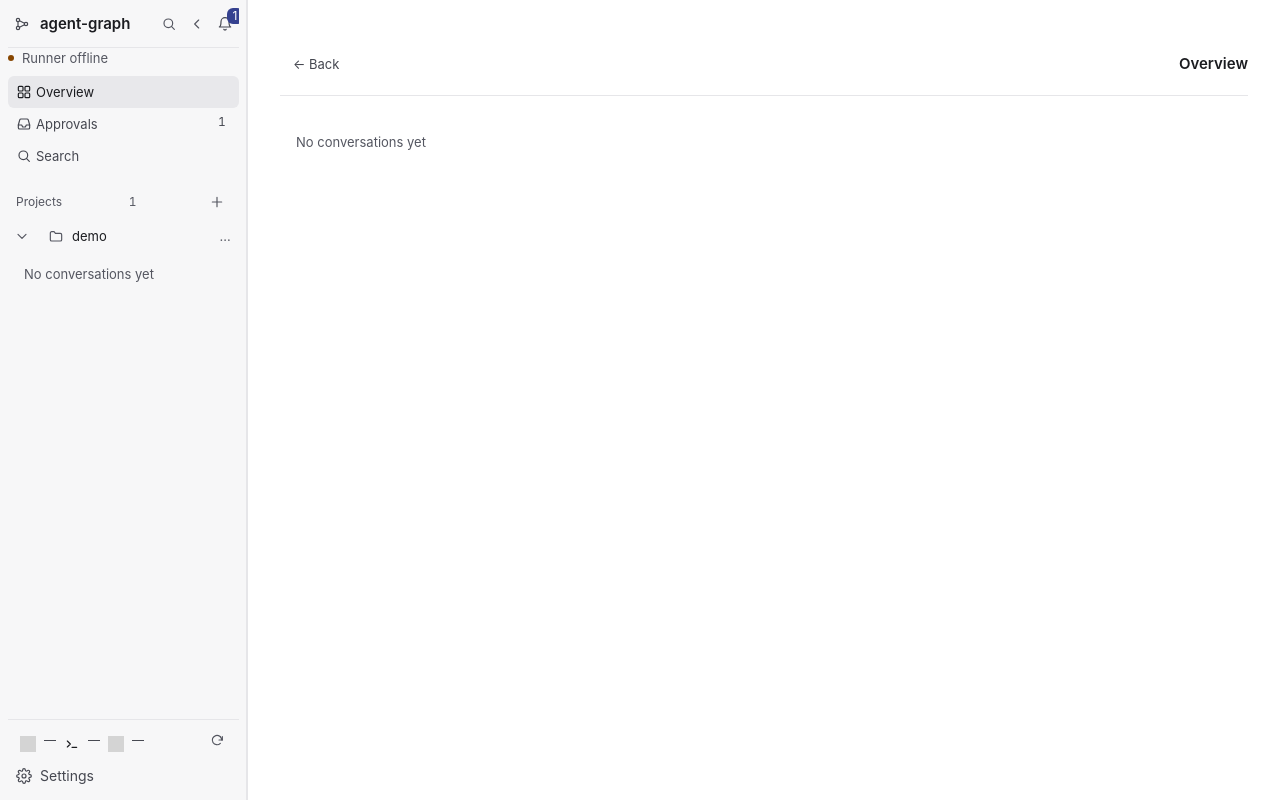
Test: renders navigation, projects, pending approvals, connection state and bell
Expected: the heading "Overview" is shown, [1179,52,1248,76]
Expected: the message reads "Runner offline", [22,50,108,66]
Click the button named "Notifications" at (225, 24), box [211,10,239,38]
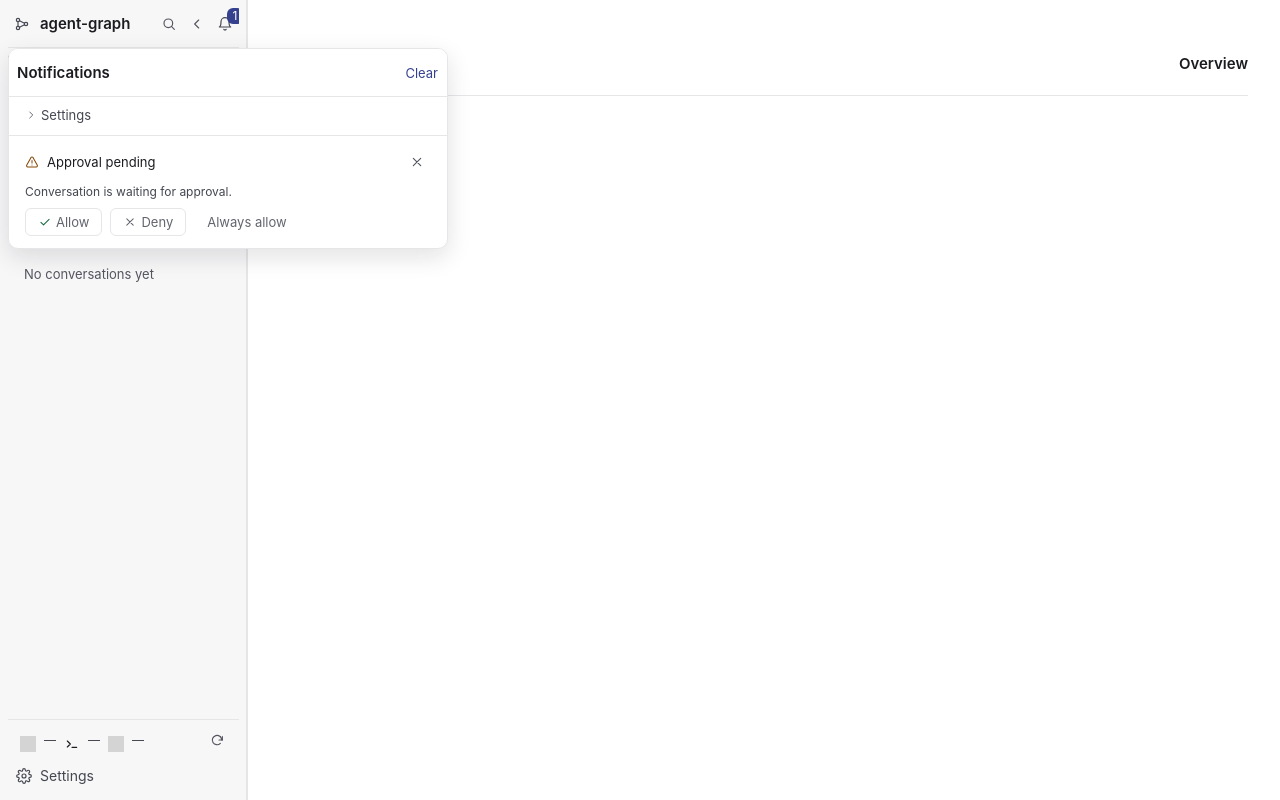
Expected: the heading "Approval pending" is shown, [47,154,155,170]
